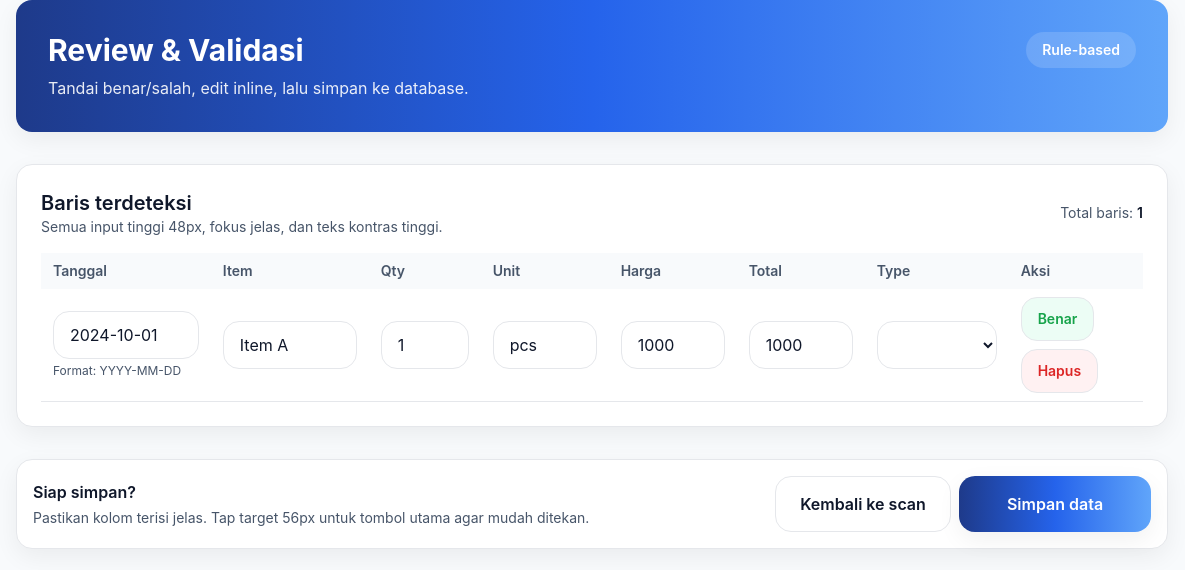
Review page › defaults type to penjualan when marked valid
The width and height of the screenshot is (1185, 570).
Step 1. Click the button "Benar" → [1057, 319], box 1021,297 -> 1094,341
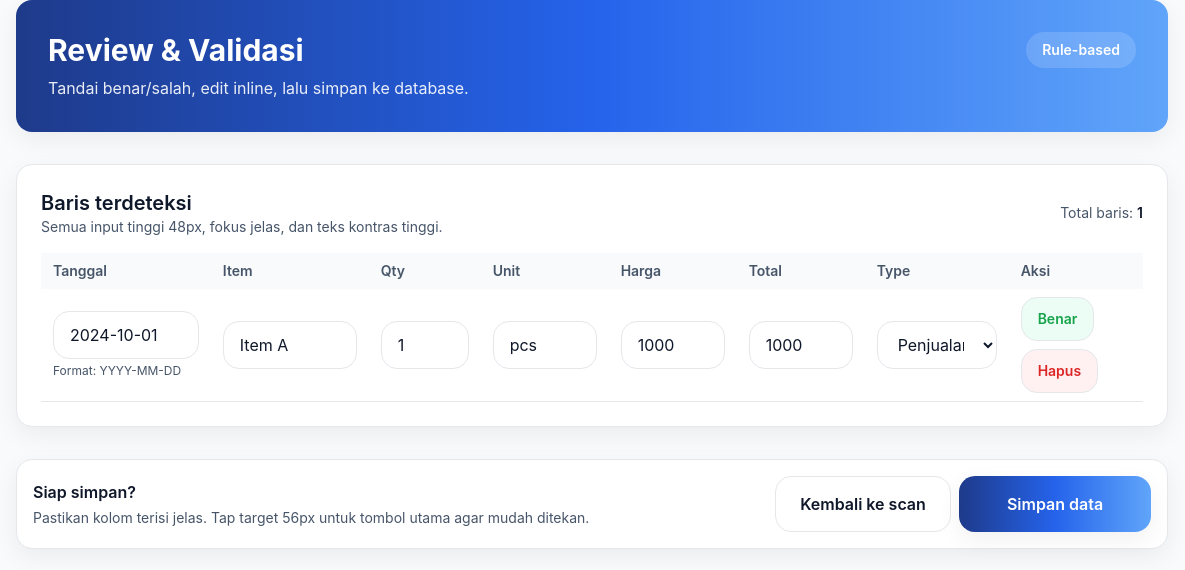
Expected: the dropdown shows "Penjualan", 877,321 -> 997,369
